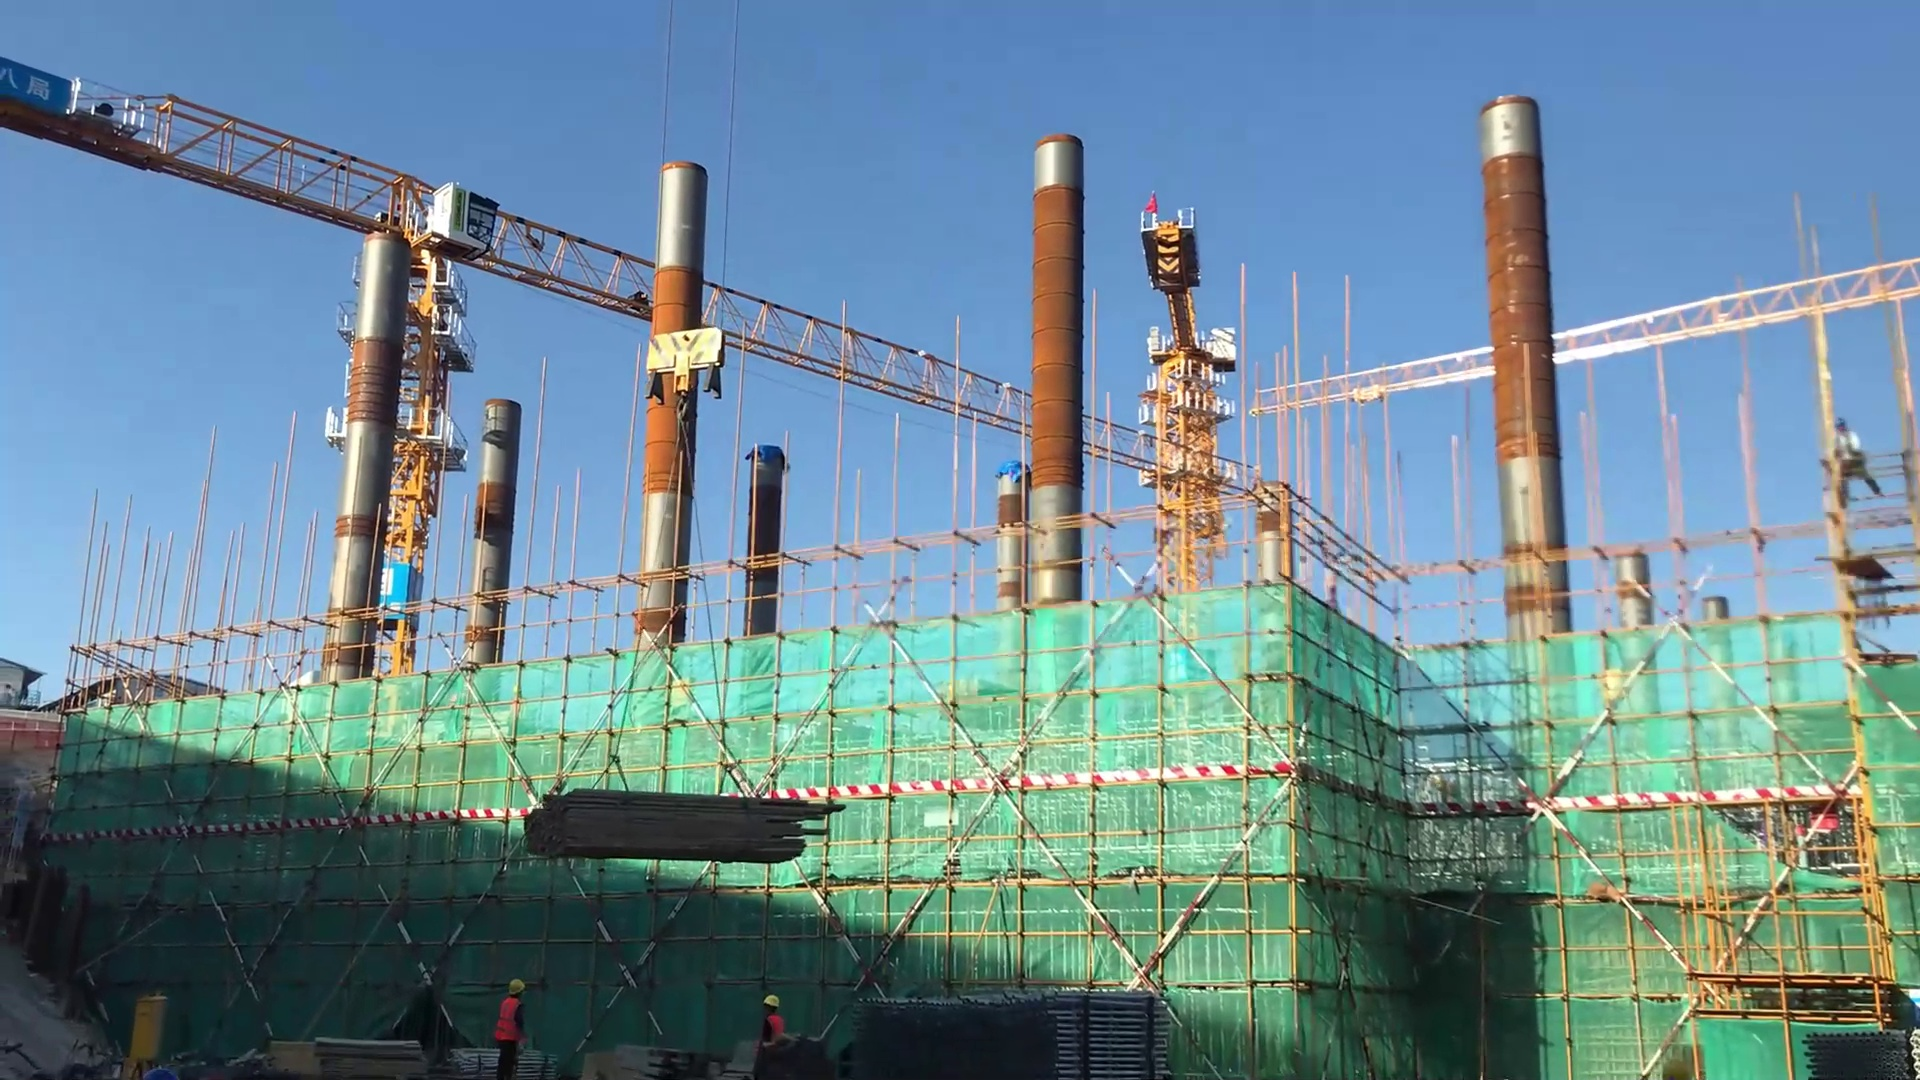ebox: (128, 993, 165, 1062)
helmet: (1826, 411, 1855, 439), (505, 975, 524, 998), (762, 994, 782, 1008)
hook: (648, 323, 719, 402)
person: (1823, 416, 1888, 512), (492, 975, 523, 1080), (758, 993, 785, 1035)
scaffold: (962, 987, 1166, 1080), (843, 988, 978, 1080)
vest: (1832, 441, 1871, 485), (493, 994, 522, 1043), (764, 1013, 784, 1036)
wood: (519, 775, 840, 865)
